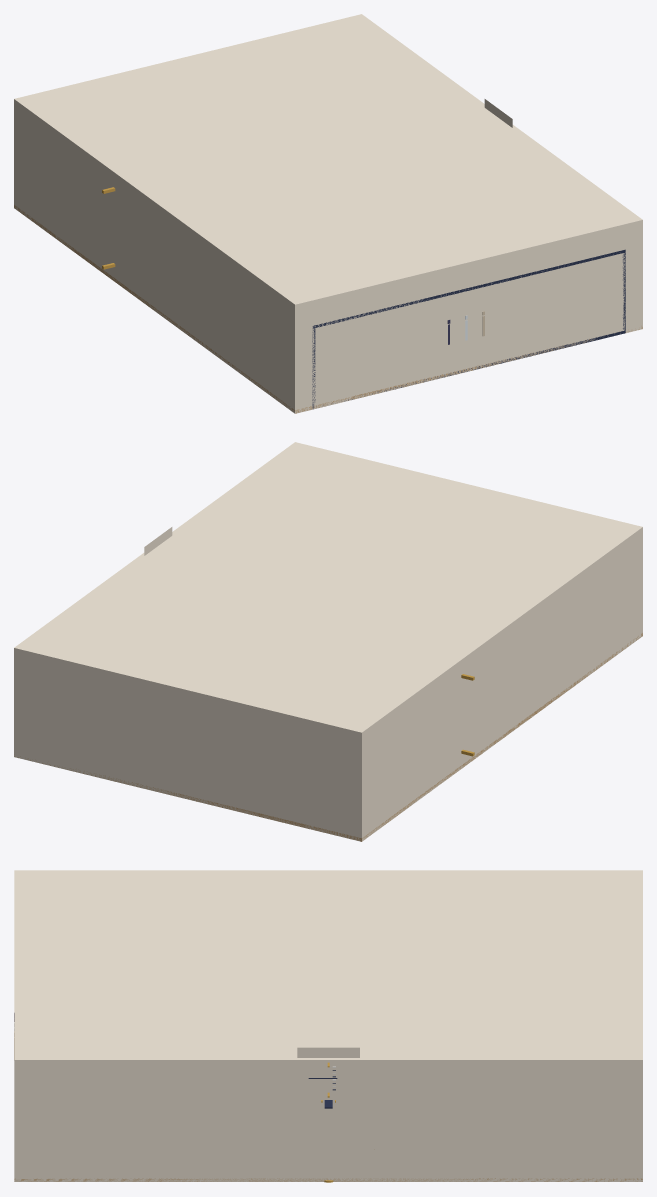
File: Environment.glb
3 renders of one model, top to bottom at view 1: azimuth 30°, elevation 25°; view 2: azimuth 150°, elevation 25°; view 3: azimuth 270°, elevation 25°, orthographic. The views are drawn at different scales.
Visible parts, largest first — view 1: Ceiling, Back_Wall, Left_Wall, Shelf_Top_Beam, Baseboard_Left, Baseboard_Back, Shelf_Bottom_Beam; view 2: Ceiling, Front_Wall, Left_Wall, Baseboard_Front, Baseboard_Left; view 3: Ceiling, Right_Wall, Baseboard_Right, Logo_Wall_Plate.
Boxes of the visible parts, x1,y1,x2,y2 form: Ceiling: [14, 14, 642, 304]; Back_Wall: [295, 220, 642, 413]; Left_Wall: [14, 99, 294, 413]; Shelf_Top_Beam: [312, 249, 625, 328]; Baseboard_Left: [14, 205, 296, 413]; Baseboard_Back: [295, 327, 642, 412]; Shelf_Bottom_Beam: [344, 330, 625, 401]; Ceiling: [14, 442, 642, 732]; Front_Wall: [14, 648, 361, 841]; Left_Wall: [362, 527, 642, 841]; Baseboard_Front: [15, 756, 361, 841]; Baseboard_Left: [360, 633, 641, 841]; Ceiling: [14, 870, 642, 1059]; Right_Wall: [14, 1060, 642, 1181]; Baseboard_Right: [15, 1178, 642, 1181]; Logo_Wall_Plate: [297, 1047, 359, 1057].
Size of the model in its own units: 10.71 by 3.25 by 14.01.
